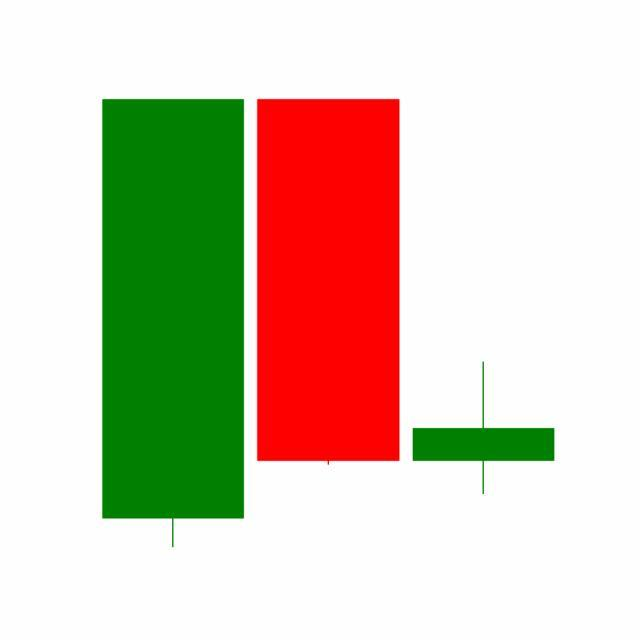Marubozu: (250, 96, 407, 470)
